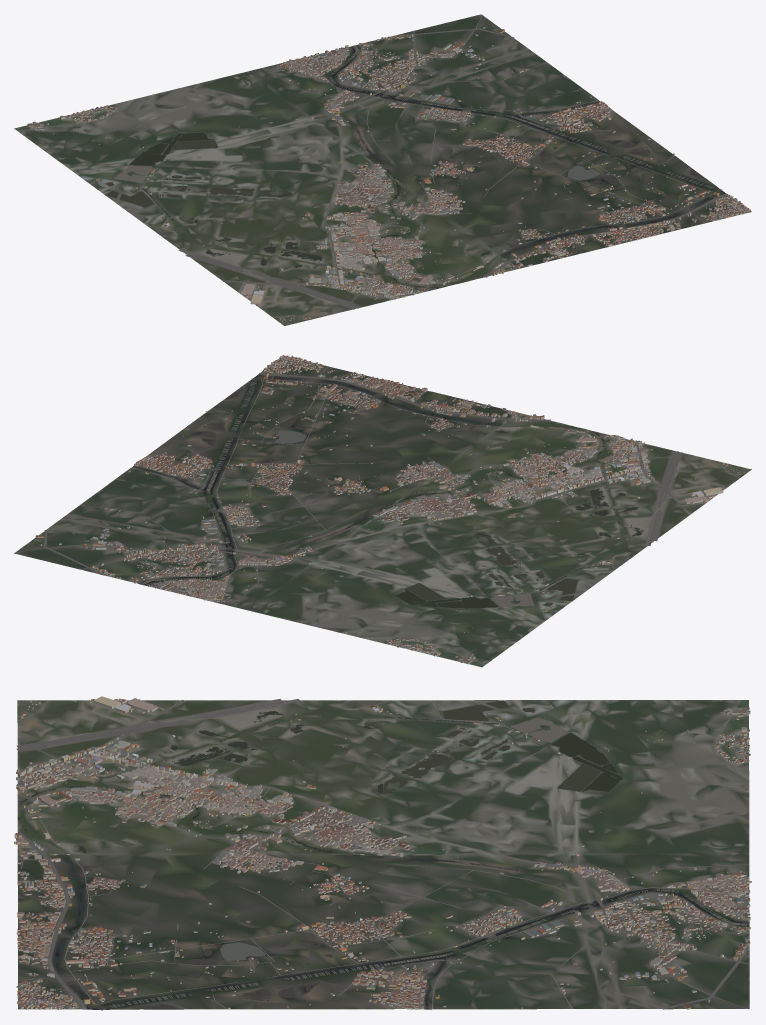
The picture shows the model from 3 angles, top to bottom: view 1: azimuth 30°, elevation 25°; view 2: azimuth 150°, elevation 25°; view 3: azimuth 270°, elevation 25°; orthographic projection. The views are drawn at different scales.
Visible parts, largest first — view 1: ground, buildings, water, roads; view 2: ground, buildings, water, roads; view 3: ground, buildings, water, roads.
Boxes of the visible parts, x1,y1,x2,y2 form: ground: (14,14,751,325); buildings: (27,27,750,321); water: (105,34,725,288); roads: (32,15,745,318); ground: (14,357,751,667); buildings: (35,355,744,664); water: (44,374,643,608); roads: (15,358,739,664); ground: (17,700,749,1009); buildings: (14,696,751,1009); water: (18,700,749,1010); roads: (15,699,749,1009).
Size of the model in its own units: 2828 by 25.38 by 2828.
